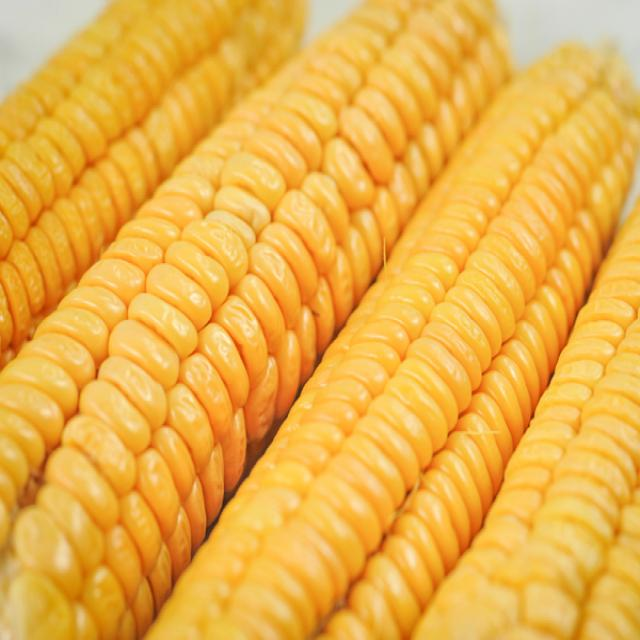Corn ear: (2, 6, 640, 637)
